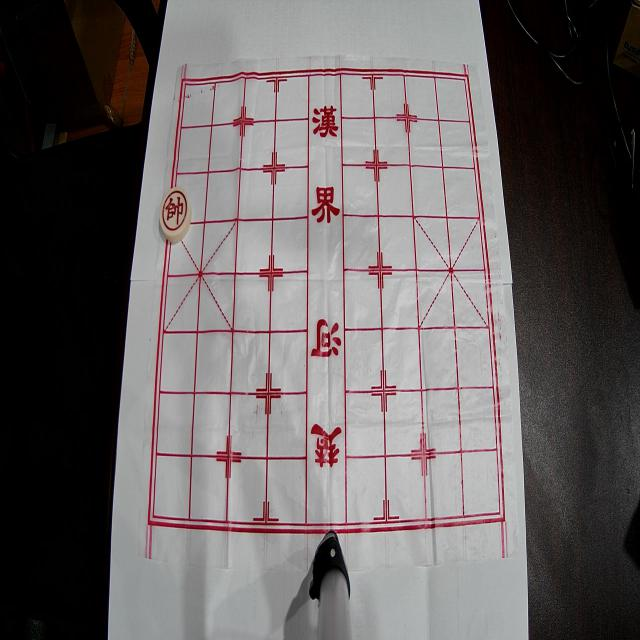red-general: (160, 187, 192, 242)
